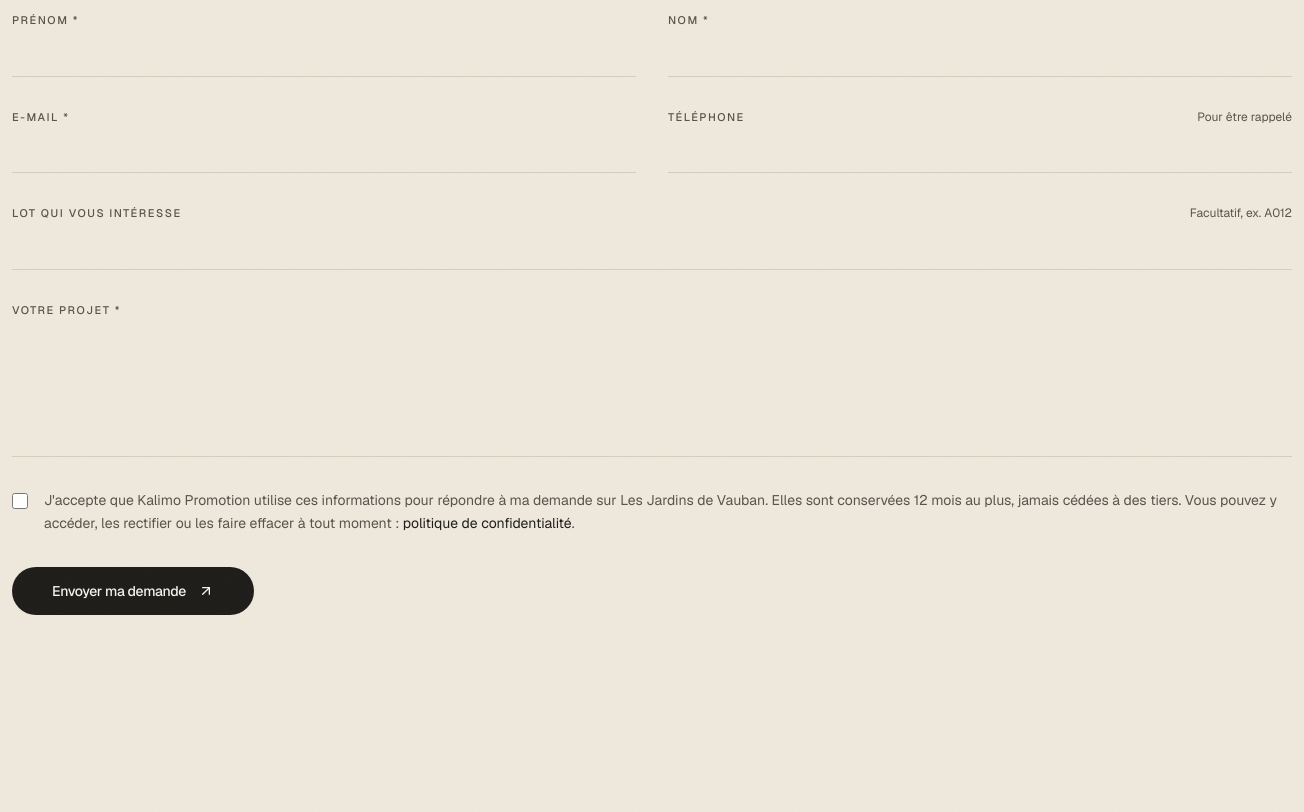
Test: ContactForm › shows inline errors instead of sending an incomplete form
The image size is (1304, 812).
Step 1. Click the button "Envoyer ma demande" → {"x": 133, "y": 590}, box [12, 566, 254, 614]
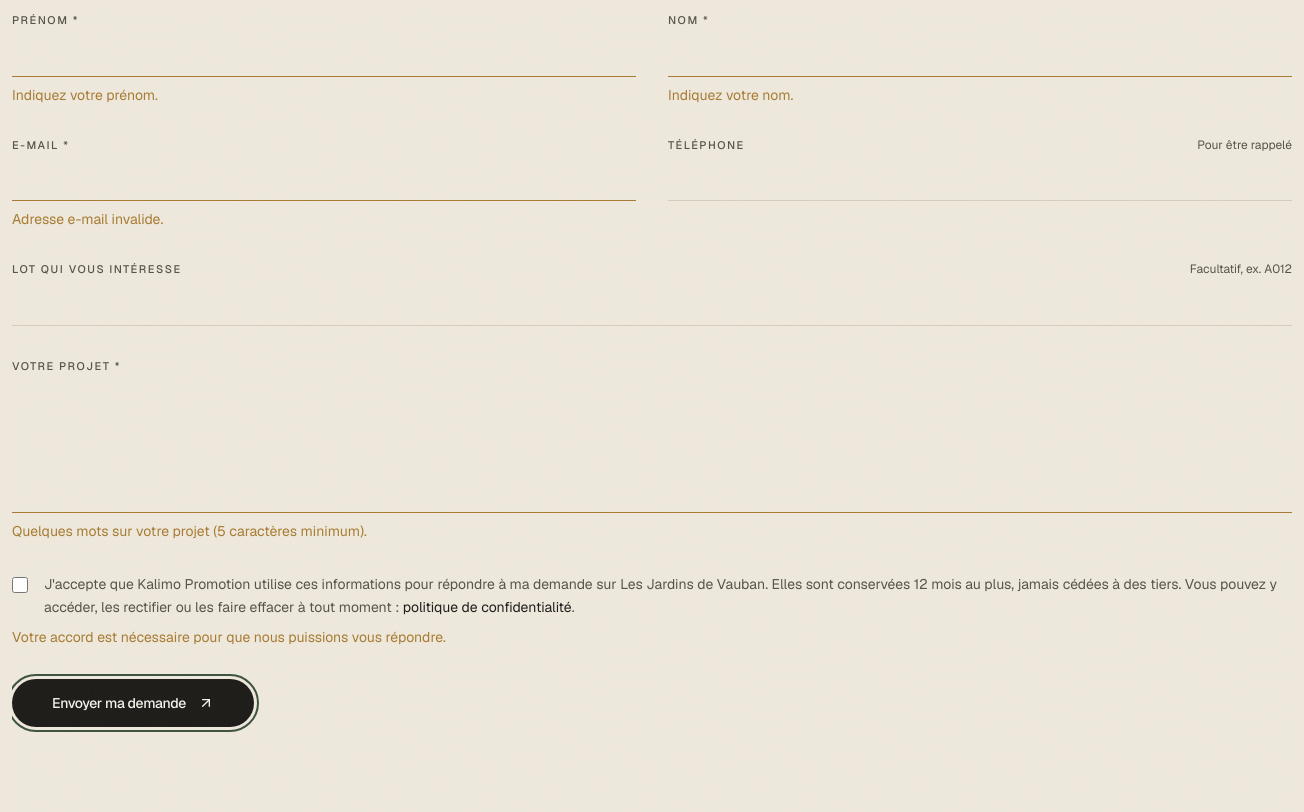
Expected: the text "Indiquez votre prénom." is shown, [12, 86, 158, 104]
